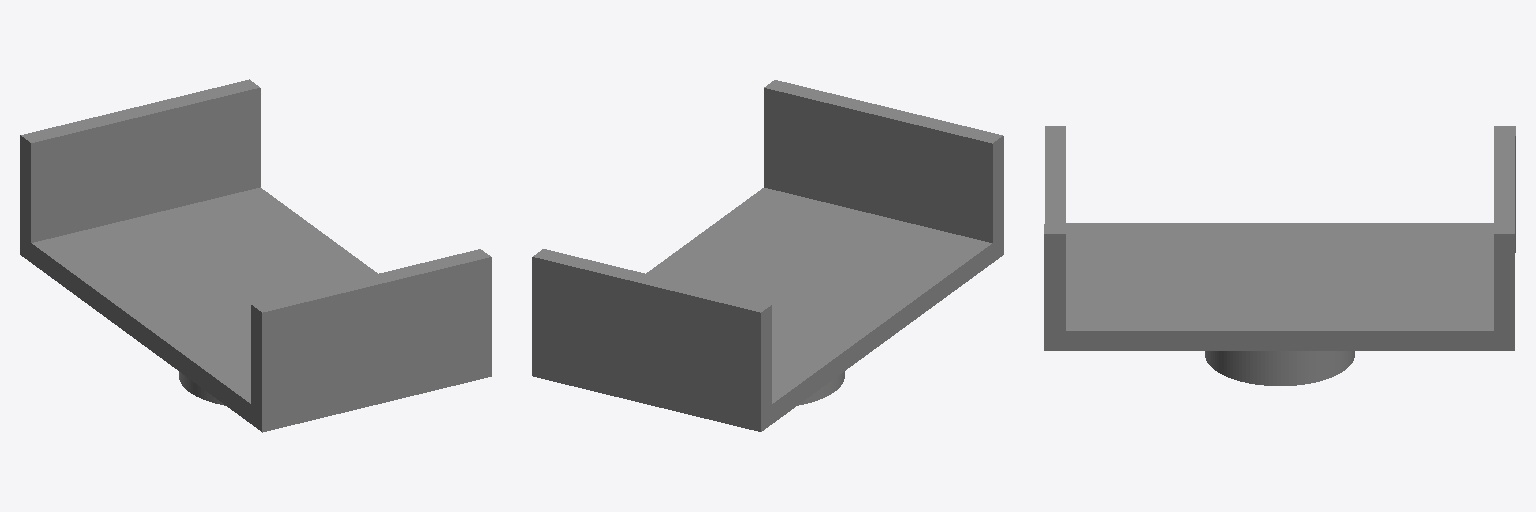
The robot description file, URDF, robot "lbr_iiwa":
<?xml version="1.0" ?>
<robot name="lbr_iiwa" xmlns:xacro="http://www.ros.org/wiki/xacro">
  <!-- Import Rviz colors -->
  <material name="Grey">
    <color rgba="0.2 0.2 0.2 1.0"/>
  </material>
  <material name="LightGrey">
    <color rgba="0.6 0.6 0.6 1.0"/>
  </material>
  <material name="Blue">
    <color rgba="0.5 0.7 1.0 1.0"/>
  </material>
  <material name="Orange">
    <color rgba="1.0 0.423529411765 0.0392156862745 1.0"/>
  </material>
  <!--Import the lbr iiwa macro -->
  <!--Import Transmissions -->
  <!--Include Utilities -->
  <!--The following macros are adapted from the LWR 4 definitions of the RCPRG - https://github.com/RCPRG-ros-pkg/lwr_robot -->
  <!--Little helper macros to define the inertia matrix needed for links.-->
  <!--Cuboid-->
  <!--Cylinder: length is along the y-axis! -->
  <!--lbr-->
  <link name="lbr_iiwa_link_0">
    <inertial>
      <origin rpy="0 0 0" xyz="-0.1 0 0.07"/>
      <!--Increase mass from 5 Kg original to provide a stable base to carry the
          arm.-->
      <mass value="0.01"/>
      <inertia ixx="0.05" ixy="0" ixz="0" iyy="0.06" iyz="0" izz="0.03"/>
    </inertial>
    <visual>
      <origin rpy="0 0 0" xyz="0 0 0"/>
      <geometry>
        <mesh filename="meshes/link_0.stl"/>
      </geometry>
      <material name="Grey"/>
    </visual>
    <collision>
      <origin rpy="0 0 0" xyz="0 0 0"/>
      <geometry>
        <mesh filename="meshes/link_0.stl"/>
      </geometry>
    </collision>
  </link>
  <!-- joint between link_0 and link_1 -->
  <joint name="lbr_iiwa_joint_1" type="revolute">
    <parent link="lbr_iiwa_link_0"/>
    <child link="lbr_iiwa_link_1"/>
    <origin rpy="0 0 0" xyz="0 0 0.1575"/>
    <axis xyz="0 0 1"/>
    <limit effort="30" lower="-2.96705972839" upper="2.96705972839" velocity="1"/>
    <dynamics damping="1"/>
  </joint>
  <link name="lbr_iiwa_link_1">
    <inertial>
      <origin rpy="0 0 0" xyz="0 -0.03 0.12"/>
      <mass value="4"/>
      <inertia ixx="0.1" ixy="0" ixz="0" iyy="0.09" iyz="0" izz="0.02"/>
    </inertial>
    <visual>
      <origin rpy="0 0 0" xyz="0 0 0"/>
      <geometry>
        <mesh filename="meshes/link_1.stl"/>
      </geometry>
      <material name="Blue"/>
    </visual>
    <collision>
      <origin rpy="0 0 0" xyz="0 0 0"/>
      <geometry>
        <mesh filename="meshes/link_1.stl"/>
      </geometry>
    </collision>
  </link>
  <!-- joint between link_1 and link_2 -->
  <joint name="lbr_iiwa_joint_2" type="revolute">
    <parent link="lbr_iiwa_link_1"/>
    <child link="lbr_iiwa_link_2"/>
    <origin rpy="1.57079632679   0 3.14159265359" xyz="0 0 0.2025"/>
    <axis xyz="0 0 1"/>
    <limit effort="30" lower="-2.09439510239" upper="2.09439510239" velocity="1"/>
    <dynamics damping="1"/>
  </joint>
  <link name="lbr_iiwa_link_2">
    <inertial>
      <origin rpy="0 0 0" xyz="0.0003 0.059 0.042"/>
      <mass value="4"/>
      <inertia ixx="0.05" ixy="0" ixz="0" iyy="0.018" iyz="0" izz="0.044"/>
    </inertial>
    <visual>
      <origin rpy="0 0 0" xyz="0 0 0"/>
      <geometry>
        <mesh filename="meshes/link_2.stl"/>
      </geometry>
      <material name="Blue"/>
    </visual>
    <collision>
      <origin rpy="0 0 0" xyz="0 0 0"/>
      <geometry>
        <mesh filename="meshes/link_2.stl"/>
      </geometry>
    </collision>
  </link>

  <!-- joint between link_2 and link_3 -->
  <joint name="lbr_iiwa_joint_3" type="revolute">
    <parent link="lbr_iiwa_link_2"/>
    <child link="lbr_iiwa_link_3"/>
    <origin rpy="1.57079632679 0 3.14159265359" xyz="0 0.2045 0"/>
    <axis xyz="0 0 1"/>
    <limit effort="30" lower="-2.96705972839" upper="2.96705972839" velocity="1"/>
    <dynamics damping="1"/>
  </joint>
  <link name="lbr_iiwa_link_3">
    <inertial>
      <origin rpy="0 0 0" xyz="0 0.03 0.13"/>
      <mass value="3"/>
      <inertia ixx="0.08" ixy="0" ixz="0" iyy="0.075" iyz="0" izz="0.01"/>
    </inertial>
    <visual>
      <origin rpy="0 0 0" xyz="0 0 0"/>
      <geometry>
        <mesh filename="meshes/link_3.stl"/>
      </geometry>
      <material name="Orange"/>
    </visual>
    <collision>
      <origin rpy="0 0 0" xyz="0 0 0"/>
      <geometry>
        <mesh filename="meshes/link_3.stl"/>
      </geometry>
    </collision>
  </link>
  <!-- joint between link_3 and link_4 -->
  <joint name="lbr_iiwa_joint_4" type="revolute">
    <parent link="lbr_iiwa_link_3"/>
    <child link="lbr_iiwa_link_4"/>
    <origin rpy="1.57079632679 0 0" xyz="0 0 0.2155"/>
    <axis xyz="0 0 1"/>
    <limit effort="30" lower="-2.09439510239" upper="2.09439510239" velocity="1"/>
    <dynamics damping="1"/>
  </joint>
  <link name="lbr_iiwa_link_4">
    <inertial>
      <origin rpy="0 0 0" xyz="0 0.067 0.034"/>
      <mass value="2.7"/>
      <inertia ixx="0.03" ixy="0" ixz="0" iyy="0.01" iyz="0" izz="0.029"/>
    </inertial>
    <visual>
      <origin rpy="0 0 0" xyz="0 0 0"/>
      <geometry>
        <mesh filename="meshes/link_4.stl"/>
      </geometry>
      <material name="Blue"/>
    </visual>
    <collision>
      <origin rpy="0 0 0" xyz="0 0 0"/>
      <geometry>
        <mesh filename="meshes/link_4.stl"/>
      </geometry>
    </collision>
  </link>
  <!-- joint between link_4 and link_5 -->
  <joint name="lbr_iiwa_joint_5" type="revolute">
    <parent link="lbr_iiwa_link_4"/>
    <child link="lbr_iiwa_link_5"/>
    <origin rpy="-1.57079632679 3.14159265359 0" xyz="0 0.1845 0"/>
    <axis xyz="0 0 1"/>
    <limit effort="30" lower="-2.96705972839" upper="2.96705972839" velocity="1"/>
    <dynamics damping="1"/>
  </joint>
  <link name="lbr_iiwa_link_5">
    <inertial>
      <origin rpy="0 0 0" xyz="0.0001 0.021 0.076"/>
      <mass value="1.7"/>
      <inertia ixx="0.02" ixy="0" ixz="0" iyy="0.018" iyz="0" izz="0.005"/>
    </inertial>
    <visual>
      <origin rpy="0 0 0" xyz="0 0 0"/>
      <geometry>
        <mesh filename="meshes/link_5.stl"/>
      </geometry>
      <material name="Blue"/>
    </visual>
    <collision>
      <origin rpy="0 0 0" xyz="0 0 0"/>
      <geometry>
        <mesh filename="meshes/link_5.stl"/>
      </geometry>
    </collision>
  </link>
  <!-- joint between link_5 and link_6 -->
  <joint name="lbr_iiwa_joint_6" type="revolute">
    <parent link="lbr_iiwa_link_5"/>
    <child link="lbr_iiwa_link_6"/>
    <origin rpy="1.57079632679 0 0" xyz="0 0 0.2155"/>
    <axis xyz="0 0 1"/>
    <limit effort="30" lower="-2.09439510239" upper="2.09439510239" velocity="1"/>
    <dynamics damping="1"/>
  </joint>
  <link name="lbr_iiwa_link_6">
    <inertial>
      <origin rpy="0 0 0" xyz="0 0.0006 0.0004"/>
      <mass value="1.8"/>
      <inertia ixx="0.005" ixy="0" ixz="0" iyy="0.0036" iyz="0" izz="0.0047"/>
    </inertial>
    <visual>
      <origin rpy="0 0 0" xyz="0 0 0"/>
      <geometry>
        <mesh filename="meshes/link_6.stl"/>
      </geometry>
      <material name="Orange"/>
    </visual>
    <collision>
      <origin rpy="0 0 0" xyz="0 0 0"/>
      <geometry>
        <mesh filename="meshes/link_6.stl"/>
      </geometry>
    </collision>
  </link>
  <!-- joint between link_6 and link_7 -->
  <joint name="lbr_iiwa_joint_7" type="revolute">
    <parent link="lbr_iiwa_link_6"/>
    <child link="lbr_iiwa_link_7"/>
    <origin rpy="-1.57079632679 3.14159265359 0" xyz="0 0.081 0"/>
    <axis xyz="0 0 1"/>
    <limit effort="30" lower="-3.05432619099" upper="3.05432619099" velocity="1"/>
    <dynamics damping="1"/>
  </joint>
  <link name="lbr_iiwa_link_7">
    <inertial>
      <origin rpy="0 0 0" xyz="0 0 0.02"/>
      <mass value="0.3"/>
      <inertia ixx="0.001" ixy="0" ixz="0" iyy="0.001" iyz="0" izz="0.001"/>
    </inertial>
    <visual>
      <origin rpy="0 0 0" xyz="0 0 0"/>
      <geometry>
        <mesh filename="meshes/link_7.stl"/>
      </geometry>
      <material name="LightGrey"/>
    </visual>
    <collision>
      <origin rpy="0 0 0" xyz="0 0 0"/>
      <geometry>
        <mesh filename="meshes/link_7.stl"/>
      </geometry>
    </collision>
  </link>

  <!-- Attach the base of the gripper to the end of the arm -->   
    <joint name='gripper_to_arm' type='fixed'>
      <parent link="lbr_iiwa_link_7"/>
      <child link="gripper"/>
    </joint>

  <link name='gripper'>
    <inertial>
      <origin rpy="1.57 0 0" xyz="0 0 0.1"/>
      <mass value="0.1"/>
      <inertia ixx="0.1" ixy="0" ixz="0" iyy="0.1" iyz="0" izz="0.1"/>
    </inertial>
    <visual>
      <origin rpy="1.57 0 1.57" xyz="0 0 0.045"/>
      <geometry> 
        <mesh filename="meshes/base_old.stl" scale=".001 .001 .001"/>
      </geometry>
      <material name="LightGrey"/>
    </visual>
    <collision>
      <origin rpy="1.57 0 1.57" xyz="0 0 0.045"/>
      <geometry>
        <mesh filename="meshes/base_old.stl" scale=".001 .001 .001"/>
      </geometry>
    </collision>
  </link>

    <joint name='collet_joint' type='fixed'>
      <parent link="gripper"/>
      <child link="collet"/>
    </joint>

  <link name='collet'>
    <inertial>
      <origin rpy=" 0 0" xyz="0 0.0 0.0"/>
      <mass value="0.2"/>
      <inertia ixx="0.1" ixy="0" ixz="0" iyy="0.1" iyz="0" izz="0.1"/>
    </inertial>
    <visual>
      <origin rpy="1.57 0 0" xyz="0 0.0 0.04"/>
      <geometry> 
        <mesh filename="meshes/collet_old.stl" scale=".001 .001 .001"/>
      </geometry>
      <material name="LightGrey"/>
    </visual>
    <collision>
      <origin rpy="1.57 0 0" xyz="0 0.0 0.04"/>
      <geometry>
        <mesh filename="meshes/collet_old.stl" scale=".001 .001 .001"/>
      </geometry>
    </collision>
  </link>

    <joint name='slider_joint' type='fixed'>
      <parent link="collet"/>
      <child link="end_effector"/>
      <origin rpy="0 0 0" xyz="0 0.0 0"/>
      <axis xyz="0 0 1"/>
      <limit effort="0" lower="0.0" upper="0.025" velocity="0"/>
      <dynamics damping="1"/>
    </joint>

  <link name='end_effector'>
    <inertial>
      <origin rpy="0 0 0" xyz="0.0 0.0 0.0"/>
      <mass value="0.2"/>
      <inertia ixx="0.01" ixy="0" ixz="0" iyy="0.01" iyz="0" izz="0.01"/>
    </inertial>
    <visual>
      <origin rpy="0 0 1.57" xyz="0 0 0.07"/>
      <geometry> 
        <mesh filename="meshes/gripper_push_base.stl" scale="0.00005 0.00005 0.00005"/>
      </geometry>
      <material name="LightGrey"/>
    </visual>
    <collision>
      <origin rpy="0 0 1.57" xyz="0 0 0.07"/>
      <geometry>
        <mesh filename="meshes/gripper_push_base.stl" scale="0.00005 0.00005 0.00005"/>
      </geometry>
    </collision>
  </link>

    <joint name='push_left_joint' type='fixed'>
      <parent link="end_effector"/>
      <child link="push_left"/>
      <origin rpy="0 0 0" xyz="0 0.0 0"/>
    </joint>

  <link name='push_left'>
    <inertial>
      <origin rpy="0 0 0" xyz="0.0 0.0 0.0"/>
      <mass value="0.2"/>
      <inertia ixx="0.01" ixy="0" ixz="0" iyy="0.01" iyz="0" izz="0.01"/>
    </inertial>
    <visual>
      <origin rpy="0 0 1.57" xyz="0 0 0.07"/>
      <geometry> 
        <mesh filename="meshes/gripper_push_left.stl" scale="0.00005 0.00005 0.00005"/>
      </geometry>
      <material name="LightGrey"/>
    </visual>
    <collision>
      <origin rpy="0 0 1.57" xyz="0 0 0.07"/>
      <geometry>
        <mesh filename="meshes/gripper_push_left.stl" scale="0.00005 0.00005 0.00005"/>
      </geometry>
    </collision>
  </link>

    <joint name='puhs_right_joint' type='fixed'>
      <parent link="end_effector"/>
      <child link="push_right"/>
      <origin rpy="0 0 0" xyz="0 0.0 0"/>
    </joint>

  <link name='push_right'>
    <inertial>
      <origin rpy="0 0 0" xyz="0.0 0.0 0.0"/>
      <mass value="0.2"/>
      <inertia ixx="0.01" ixy="0" ixz="0" iyy="0.01" iyz="0" izz="0.01"/>
    </inertial>
    <visual>
      <origin rpy="0 0 1.57" xyz="0 0 0.07"/>
      <geometry> 
        <mesh filename="meshes/gripper_push_right.stl" scale="0.00005 0.00005 0.00005"/>
      </geometry>
      <material name="LightGrey"/>
    </visual>
    <collision>
      <origin rpy="0 0 1.57" xyz="0 0 0.07"/>
      <geometry>
        <mesh filename="meshes/gripper_push_right.stl" scale="0.00005 0.00005 0.00005"/>
      </geometry>
    </collision>
  </link>

</robot>

--- Render facts (derived) ---
The picture shows the robot from 3 angles, left to right: view 1: azimuth 30°, elevation 25°; view 2: azimuth 150°, elevation 25°; view 3: azimuth 270°, elevation 25°; orthographic projection.
Robot: lbr_iiwa — 13 links, 12 joints (7 revolute, 5 fixed); root link lbr_iiwa_link_0; default pose: every joint at zero.
Links seen in each view (by area): view 1: end_effector, push_left, push_right; view 2: end_effector, push_right, push_left; view 3: end_effector, push_left, push_right.
Boxes of the visible links, x1,y1,x2,y2 form: end_effector: [20, 187, 491, 432]; push_left: [251, 249, 491, 412]; push_right: [20, 79, 260, 242]; end_effector: [532, 188, 1003, 431]; push_right: [532, 249, 771, 411]; push_left: [764, 80, 1003, 242]; end_effector: [1044, 223, 1515, 385]; push_left: [1044, 126, 1065, 330]; push_right: [1494, 126, 1515, 330].
Bounding box of the posed robot: 0.0763 × 0.1398 × 0.0572 m (x, y, z).
Meshes: 13 distinct files referenced, 3 mesh visuals loaded (3 binary STL); not drawn: 10 (reference not matched to a file when rendering).